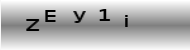1: (98, 8, 110, 21)
E: (44, 9, 56, 22)
Z: (25, 19, 39, 31)
i: (123, 14, 128, 28)
y: (71, 10, 85, 23)
